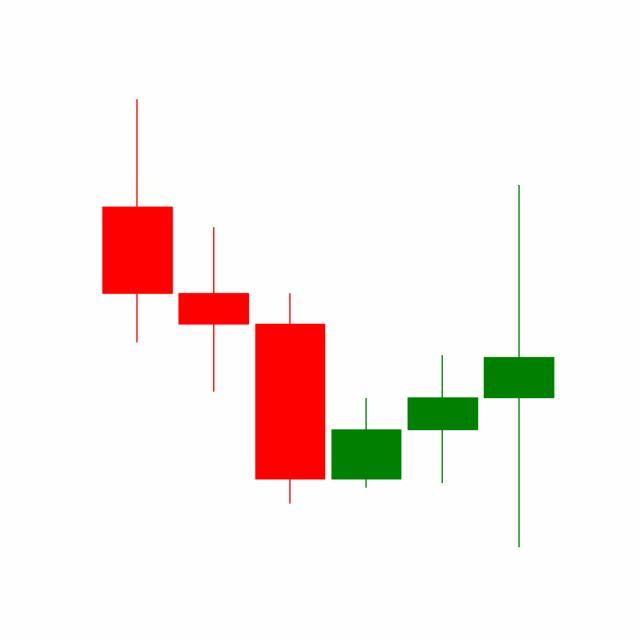Spinning Top: (404, 354, 482, 486)
